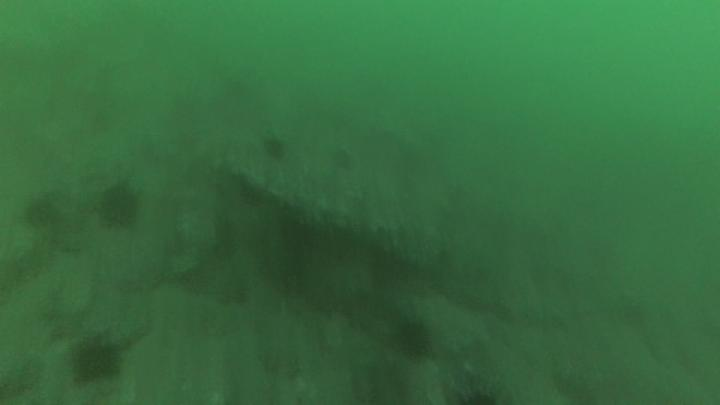echinus: (73, 342, 118, 383), (401, 324, 431, 359), (107, 189, 140, 219)
